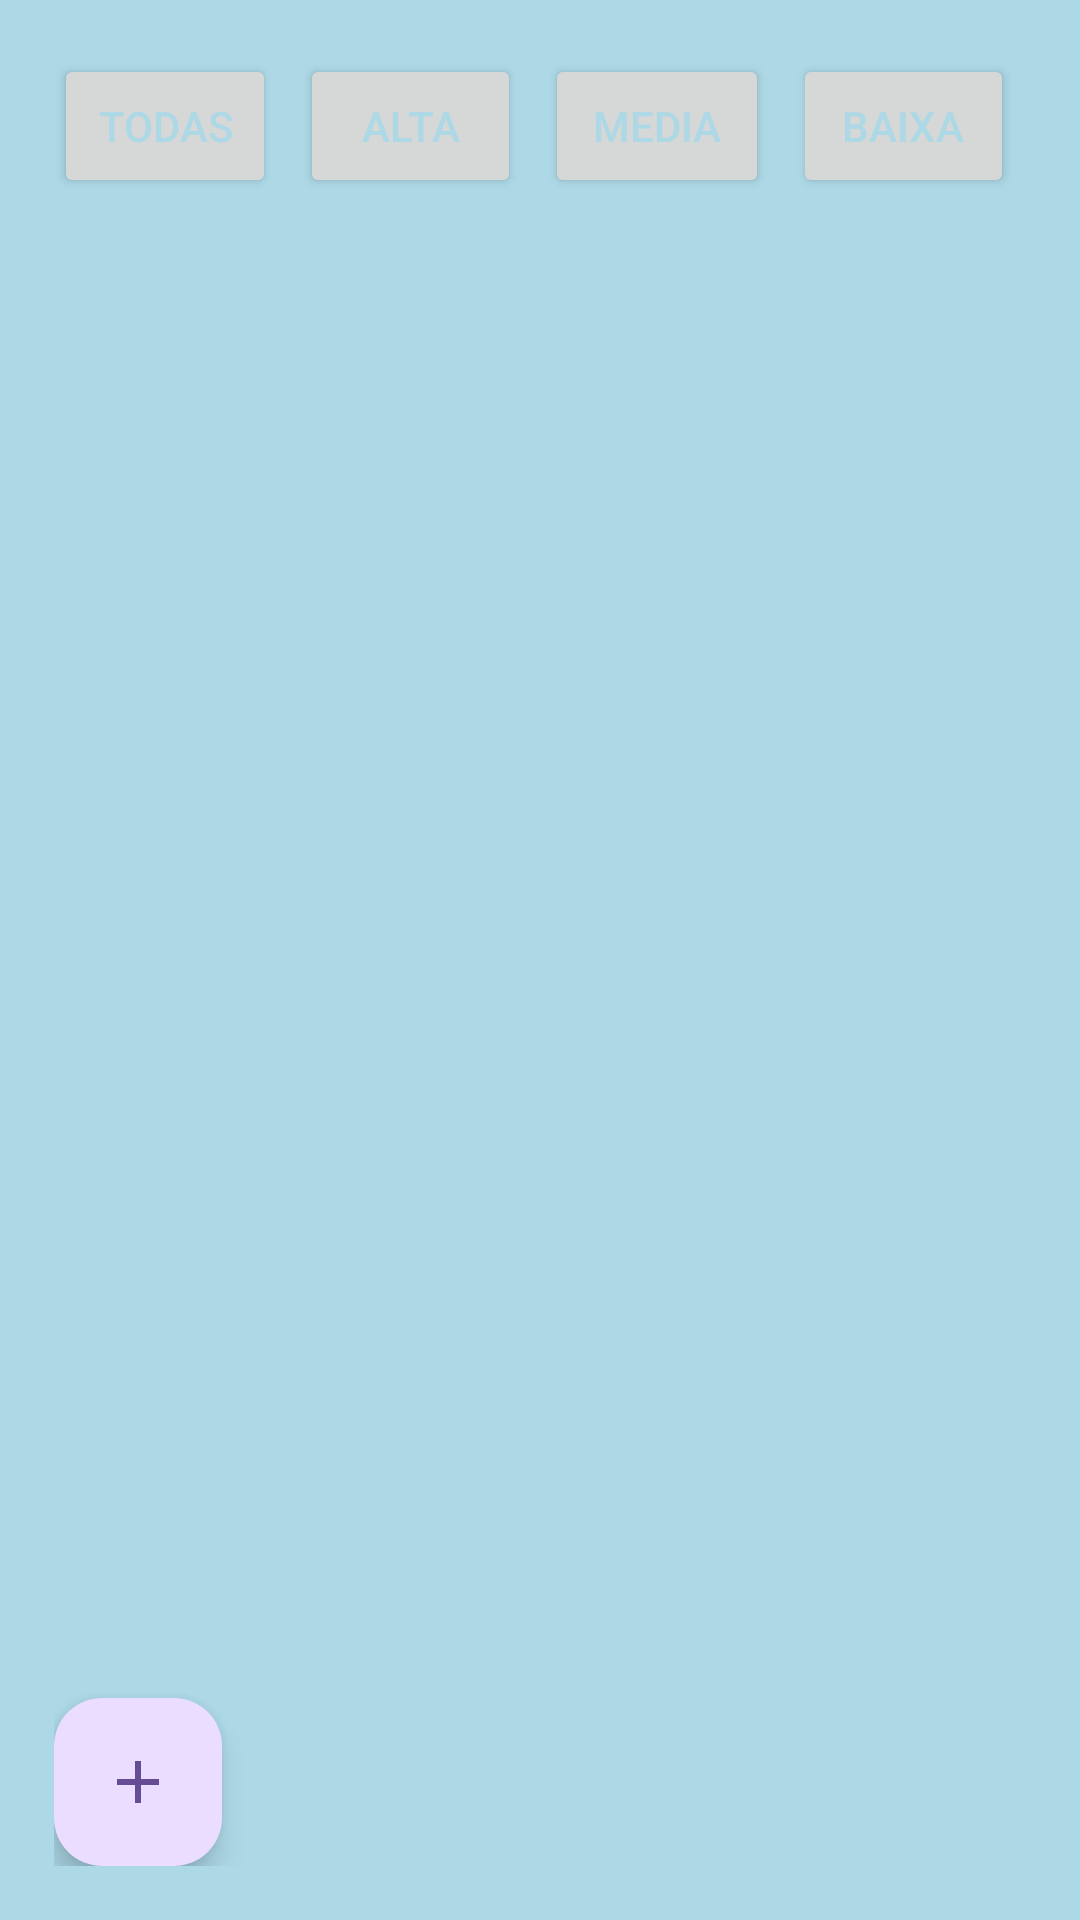

Where to tap for icons on this 1080x1920 app screen, as (x,y):
add: (138,1782)
